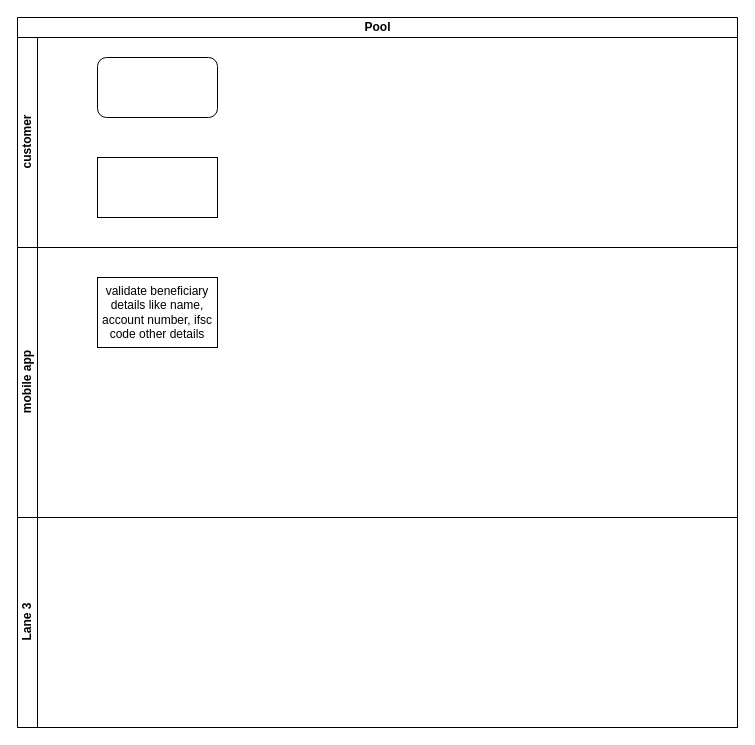
This 755x745 diagram has some shape labels left out. Each missing label, with the centre of its shape:
"Login to the app select beneficiary and add amount" belongs at (x=157, y=187).
"Start" belongs at (x=157, y=87).
